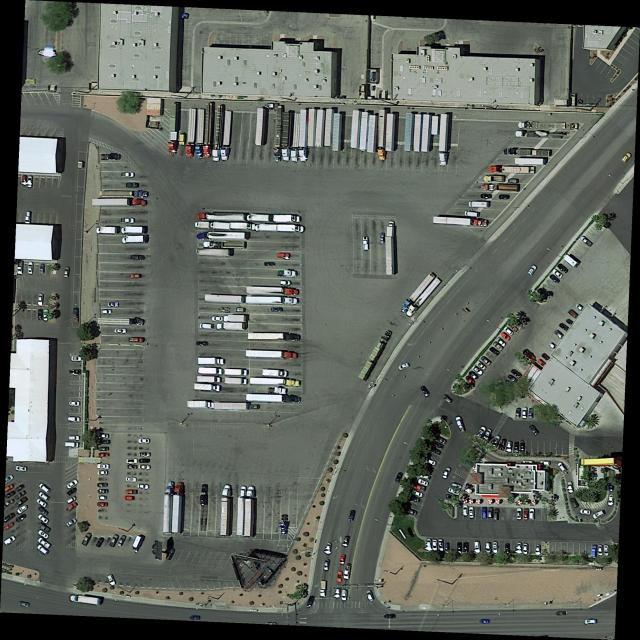large-vehicle: (356, 329, 394, 382), (405, 275, 444, 319), (399, 270, 438, 313), (212, 104, 226, 164), (385, 217, 398, 276), (172, 481, 186, 535), (167, 103, 181, 156), (433, 215, 490, 228), (91, 197, 150, 209), (248, 376, 302, 389), (244, 350, 302, 362), (245, 393, 303, 405), (203, 102, 215, 160), (246, 286, 302, 298), (221, 110, 234, 161), (273, 108, 285, 162), (487, 164, 539, 176), (194, 108, 206, 160), (245, 297, 301, 308), (282, 112, 294, 163), (185, 108, 197, 159), (439, 115, 451, 166), (247, 332, 302, 343), (377, 110, 388, 162), (503, 147, 554, 158), (96, 316, 147, 327), (243, 485, 254, 536), (213, 401, 258, 413), (298, 110, 308, 163), (514, 130, 568, 139), (195, 213, 246, 222), (69, 594, 104, 607), (197, 231, 247, 240), (221, 486, 230, 536), (291, 114, 300, 163), (480, 182, 520, 193), (204, 294, 246, 304), (98, 190, 150, 198), (164, 482, 172, 534), (199, 486, 208, 531), (518, 122, 566, 130), (315, 109, 325, 147), (255, 108, 265, 146), (367, 115, 377, 153), (351, 111, 361, 148), (561, 251, 580, 270), (360, 112, 369, 151), (237, 486, 244, 535), (195, 248, 233, 257), (405, 113, 414, 151), (413, 114, 422, 152), (421, 114, 430, 152), (119, 235, 150, 246), (200, 242, 247, 249), (308, 108, 316, 147), (325, 109, 333, 147), (197, 357, 227, 367), (333, 114, 341, 151), (386, 114, 394, 151), (120, 226, 149, 236), (197, 366, 223, 377), (273, 214, 301, 224), (194, 384, 222, 394), (216, 323, 247, 332), (224, 367, 249, 378), (262, 369, 289, 379), (187, 400, 214, 410), (276, 224, 304, 233), (95, 226, 118, 236), (196, 375, 221, 384), (515, 158, 545, 165), (484, 174, 507, 183), (224, 377, 249, 385), (246, 214, 271, 222), (223, 315, 248, 323), (231, 223, 256, 231), (255, 223, 277, 232), (132, 535, 143, 551), (211, 222, 230, 231), (469, 200, 490, 208), (268, 387, 288, 395), (194, 221, 211, 230), (431, 116, 439, 135), (319, 580, 326, 598), (199, 322, 213, 330), (362, 235, 369, 251), (465, 211, 479, 218), (178, 132, 185, 146), (234, 306, 246, 312)
small-vehicle: (522, 348, 536, 363), (507, 320, 521, 334), (164, 547, 176, 561), (455, 416, 465, 432), (567, 307, 579, 319), (580, 235, 592, 247), (81, 533, 92, 546), (305, 595, 315, 609), (15, 496, 27, 507), (4, 535, 16, 546), (39, 483, 51, 494), (38, 537, 50, 548), (36, 544, 48, 555), (540, 350, 552, 361), (66, 479, 79, 489), (445, 492, 458, 502), (536, 357, 547, 368), (14, 490, 26, 500), (15, 513, 27, 523), (39, 523, 51, 533), (109, 535, 119, 547), (552, 269, 564, 279), (195, 339, 208, 348), (447, 487, 460, 496), (72, 307, 79, 323), (124, 181, 140, 188), (17, 504, 28, 514), (38, 514, 49, 524), (549, 274, 560, 284), (554, 329, 564, 340), (558, 263, 569, 273), (622, 152, 632, 163), (451, 481, 463, 490), (592, 510, 604, 519), (442, 467, 451, 479), (282, 270, 297, 277), (324, 542, 332, 555), (38, 506, 48, 516), (569, 498, 579, 508), (564, 316, 574, 326), (493, 341, 503, 351), (508, 374, 518, 384), (4, 513, 15, 522), (39, 492, 50, 501), (36, 498, 47, 507), (38, 530, 49, 539), (66, 487, 77, 496), (66, 503, 77, 512), (472, 366, 483, 375), (420, 386, 429, 397), (394, 472, 403, 483), (511, 369, 522, 378), (412, 490, 423, 499), (529, 425, 538, 436), (603, 544, 610, 558), (583, 618, 597, 625), (479, 617, 491, 625), (413, 484, 425, 492), (419, 473, 431, 481), (499, 439, 507, 451), (279, 279, 292, 286), (277, 252, 290, 259), (590, 545, 597, 558), (130, 255, 145, 261), (117, 536, 126, 546), (342, 536, 351, 546), (120, 217, 135, 223), (557, 462, 566, 472), (500, 332, 510, 341), (559, 323, 569, 332), (481, 357, 491, 366), (528, 265, 537, 275), (442, 394, 451, 404), (66, 496, 77, 504), (66, 519, 77, 527), (107, 574, 115, 585), (489, 347, 500, 355), (366, 590, 374, 601), (398, 363, 409, 371), (465, 376, 476, 384), (492, 436, 500, 447), (65, 442, 79, 448), (27, 262, 34, 274), (324, 559, 331, 571), (271, 306, 283, 313), (479, 193, 493, 199), (211, 315, 223, 322), (189, 614, 201, 621), (345, 565, 351, 579), (15, 484, 24, 493), (5, 484, 14, 493), (469, 371, 478, 380), (477, 427, 486, 436), (5, 491, 15, 499), (3, 523, 13, 531), (497, 337, 505, 347), (484, 429, 492, 439), (426, 458, 436, 466), (431, 447, 441, 455), (436, 436, 446, 444), (121, 172, 134, 178), (497, 194, 510, 200), (535, 543, 541, 556), (597, 544, 603, 557), (508, 177, 519, 184), (349, 511, 356, 522), (418, 479, 429, 486), (129, 337, 144, 342), (5, 499, 14, 507), (38, 294, 44, 306), (137, 483, 149, 489), (96, 538, 104, 547), (18, 601, 30, 607), (548, 341, 556, 350), (555, 610, 567, 616), (478, 362, 486, 371), (434, 441, 443, 449), (16, 466, 27, 472), (27, 176, 33, 187), (127, 458, 138, 464), (517, 543, 523, 554), (17, 261, 22, 274), (5, 475, 13, 483), (505, 327, 513, 335), (411, 496, 420, 503), (408, 509, 417, 516), (107, 302, 119, 307), (69, 435, 79, 441), (139, 452, 151, 457), (98, 464, 110, 469), (25, 212, 30, 224), (264, 261, 276, 266), (340, 554, 346, 564), (444, 542, 450, 552), (482, 508, 488, 518), (522, 408, 528, 418), (70, 369, 81, 374), (69, 401, 80, 406), (68, 417, 79, 422), (568, 482, 573, 493), (457, 542, 462, 553), (524, 543, 529, 554), (608, 494, 613, 505), (524, 509, 529, 520), (517, 509, 522, 520), (439, 540, 444, 551), (469, 507, 474, 518), (488, 508, 493, 519), (494, 509, 499, 520), (514, 442, 519, 453), (581, 509, 590, 515), (335, 589, 341, 598), (425, 540, 431, 549), (114, 329, 127, 333), (44, 310, 49, 320), (22, 176, 27, 186), (131, 274, 141, 279), (71, 356, 81, 361), (126, 477, 136, 482), (98, 470, 108, 475), (38, 310, 43, 320), (65, 267, 70, 277), (380, 233, 385, 243), (337, 572, 342, 582), (433, 540, 438, 550), (493, 542, 498, 552), (516, 408, 521, 418), (507, 442, 512, 452), (139, 465, 151, 469), (576, 303, 582, 311), (100, 447, 109, 452), (40, 264, 45, 273), (464, 543, 469, 552), (541, 460, 550, 465), (608, 484, 613, 493), (505, 543, 510, 552), (529, 409, 534, 418), (521, 442, 526, 451), (139, 459, 150, 463), (126, 490, 137, 494), (98, 489, 109, 493), (530, 509, 534, 520), (342, 590, 346, 601), (384, 615, 395, 619), (102, 310, 112, 314), (100, 440, 110, 444), (139, 439, 149, 443), (98, 483, 108, 487), (127, 465, 137, 469), (98, 502, 108, 506), (124, 496, 134, 500), (463, 506, 467, 516), (100, 453, 109, 457), (100, 434, 109, 438), (98, 496, 107, 500), (475, 542, 479, 551), (487, 543, 491, 552)
